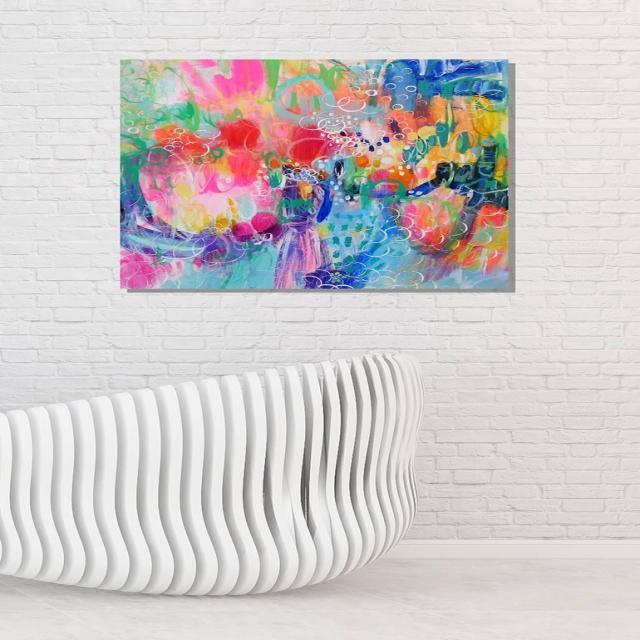painting: (120, 59, 510, 288)
